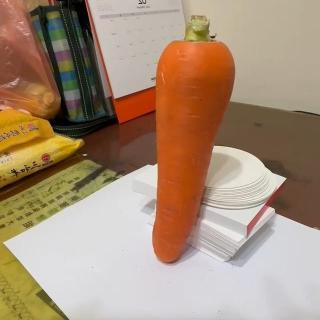carrot: (151, 14, 236, 264)
